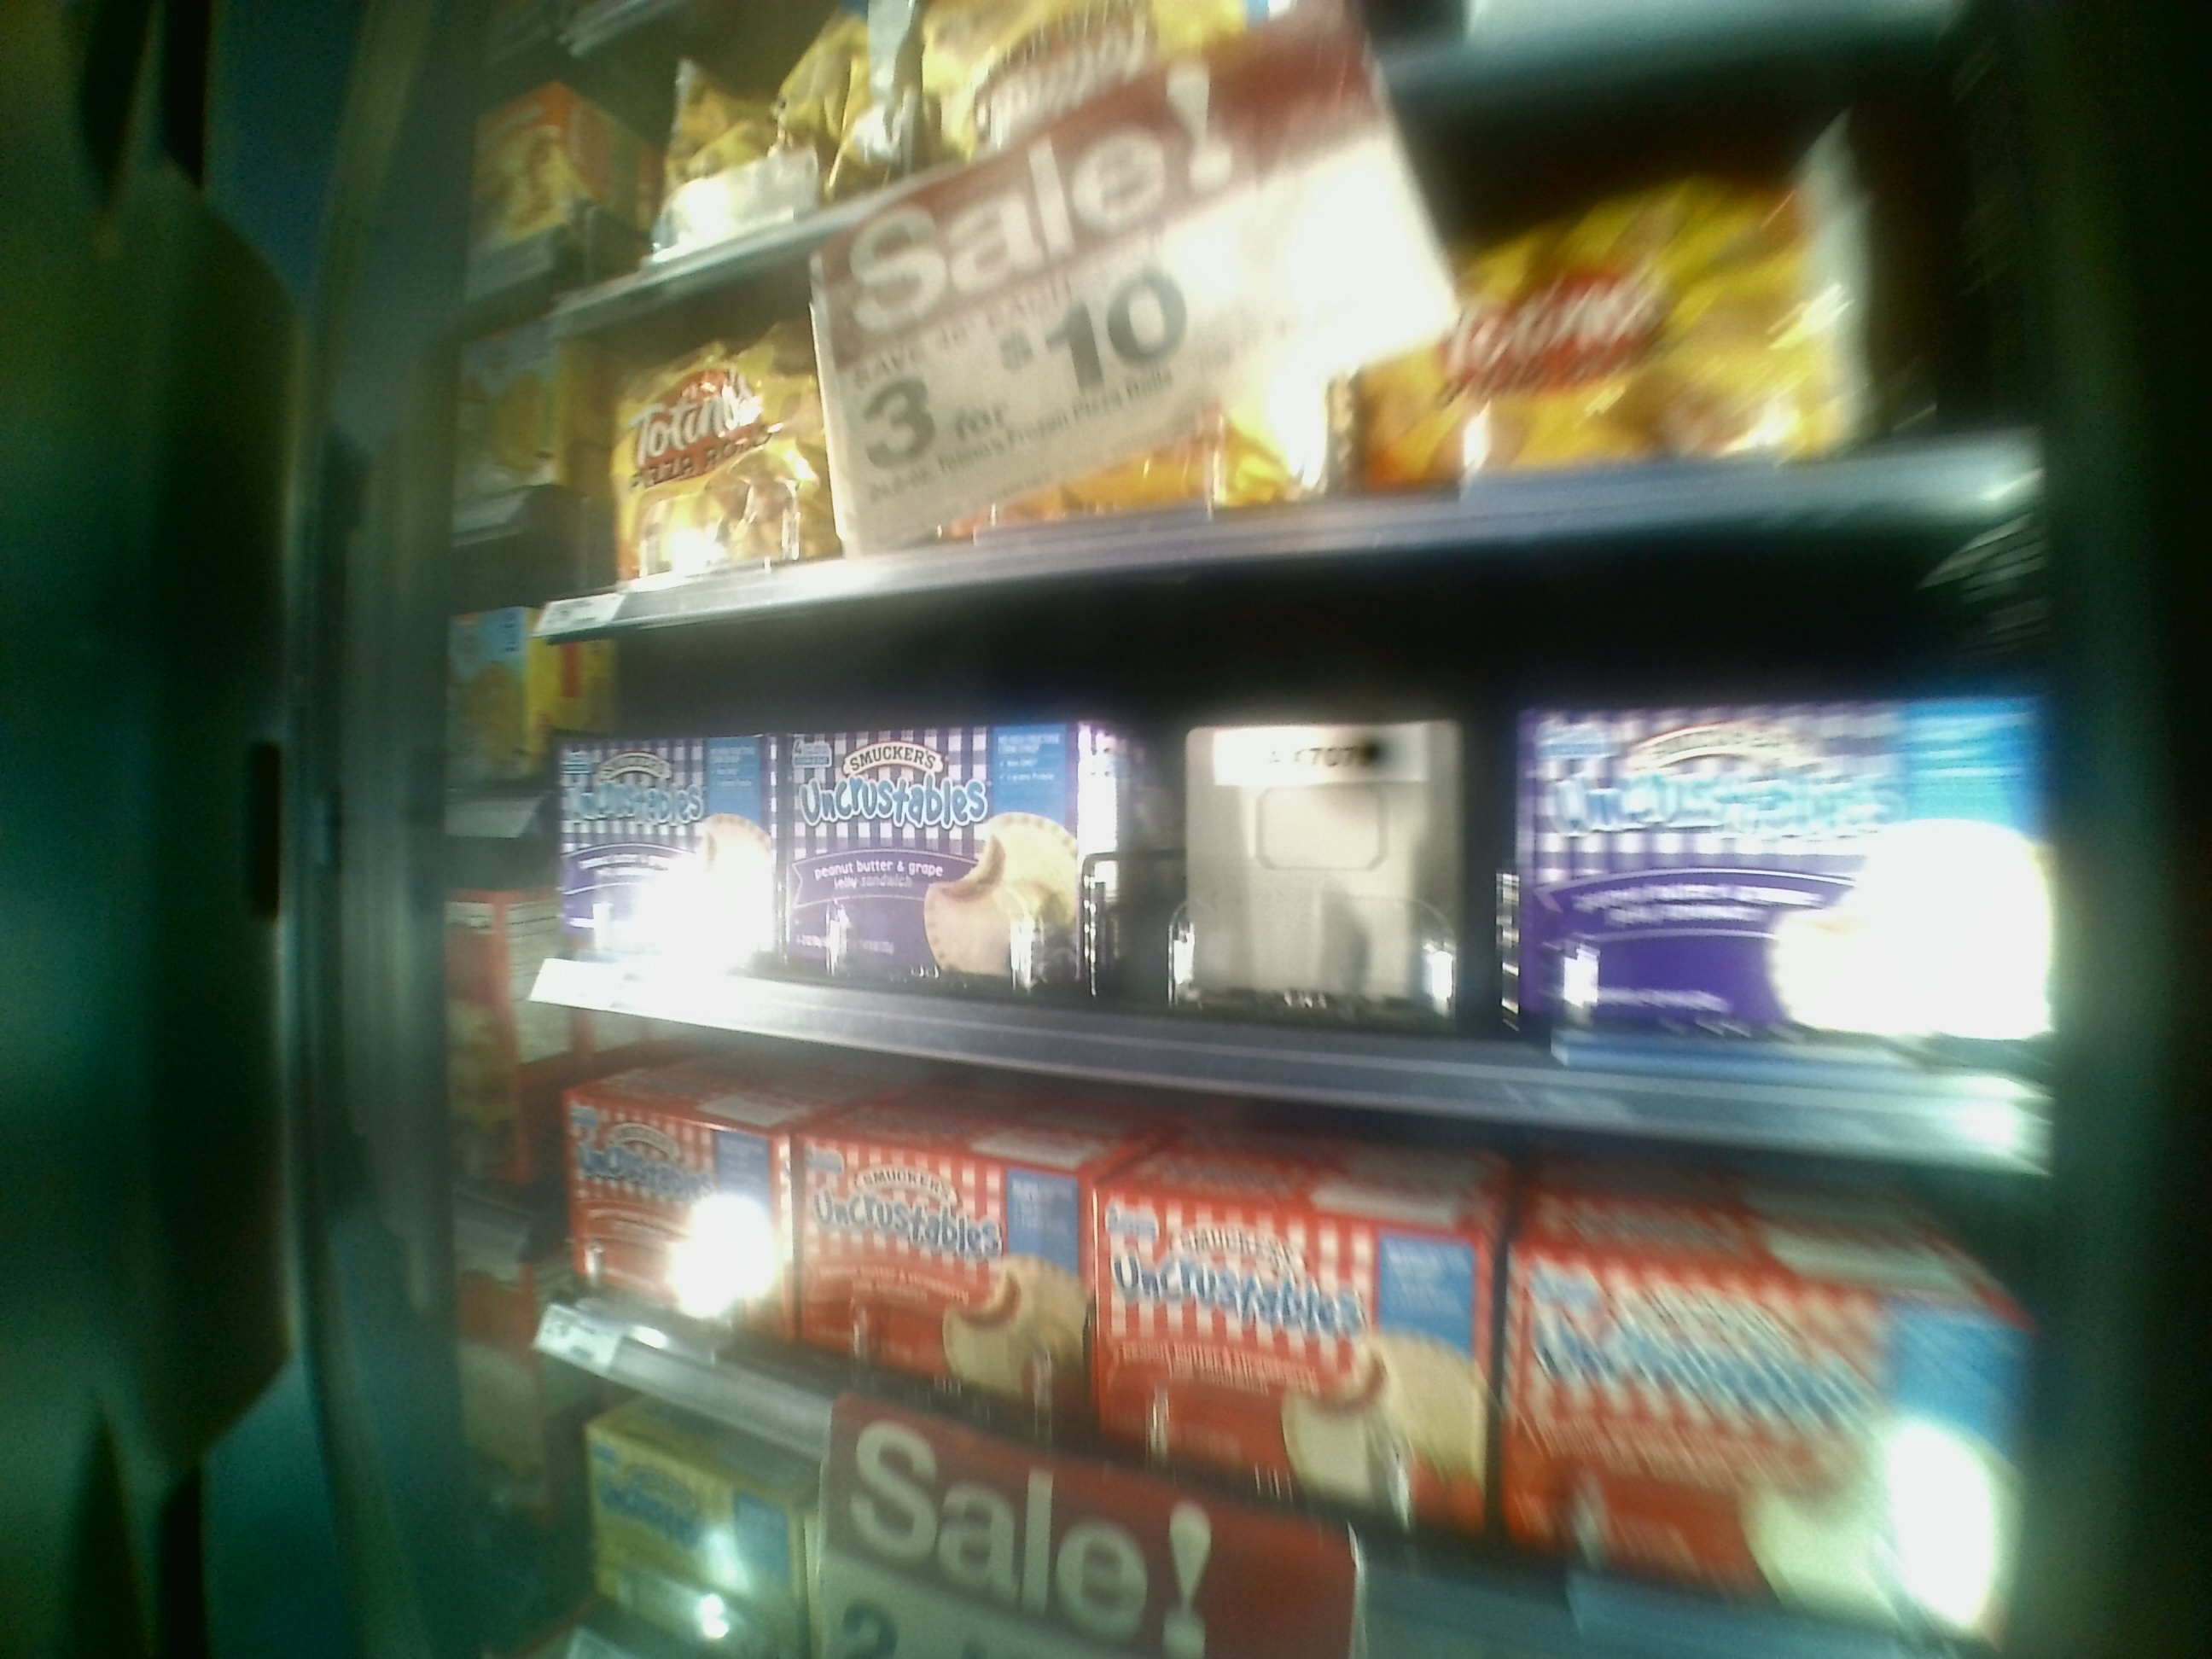shelf: (477, 566, 2054, 1157), (503, 267, 2036, 551)
